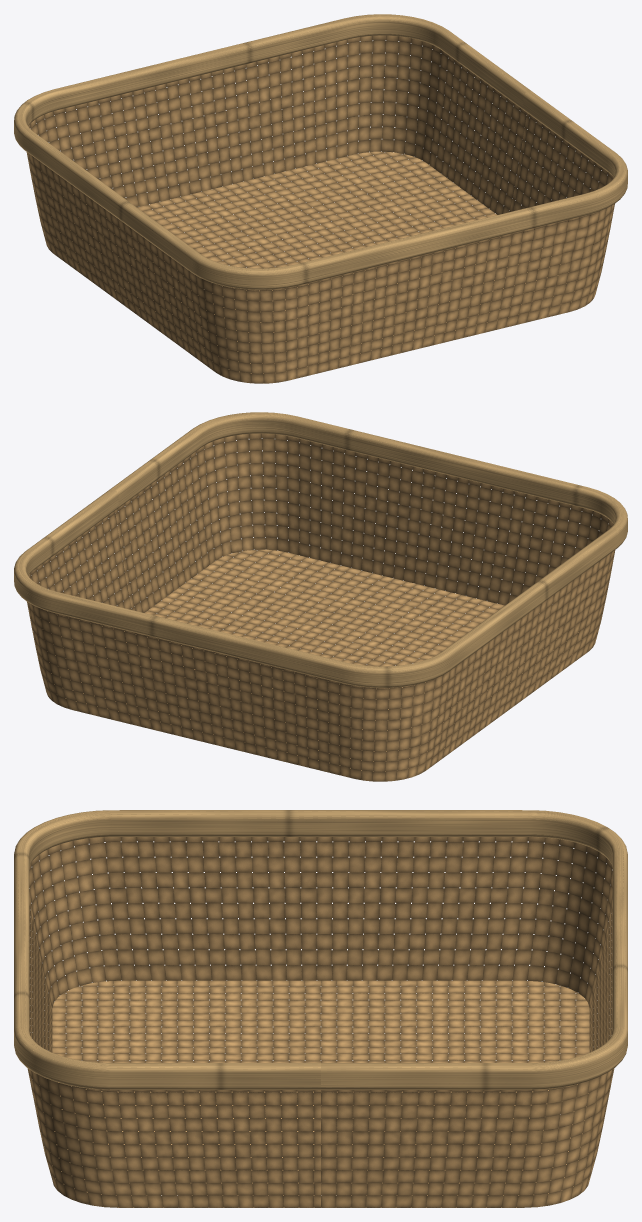
3 views of the same model, one above another, from view 1: azimuth 30°, elevation 25°; view 2: azimuth 150°, elevation 25°; view 3: azimuth 270°, elevation 25° (orthographic). The views are drawn at different scales.
Parts seen in each view (by area): view 1: walls, rim, floor; view 2: walls, rim, floor; view 3: walls, floor, rim.
Part boxes in pixels (box(x1,y1,x2,y2)): walls: box(26, 35, 614, 383); rim: box(14, 14, 627, 289); floor: box(54, 151, 581, 383); walls: box(27, 433, 615, 781); rim: box(14, 412, 627, 687); floor: box(54, 549, 590, 781); walls: box(27, 837, 614, 1207); floor: box(52, 980, 589, 1207); rim: box(14, 810, 627, 1089).
Size of the model in its own units: 0.28 by 0.0786 by 0.28.
Materials: 2 (2 with a texture image).
